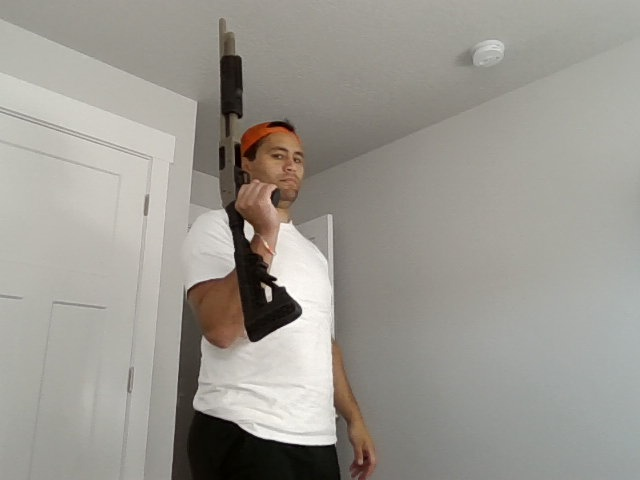shotgun: (216, 16, 303, 345)
